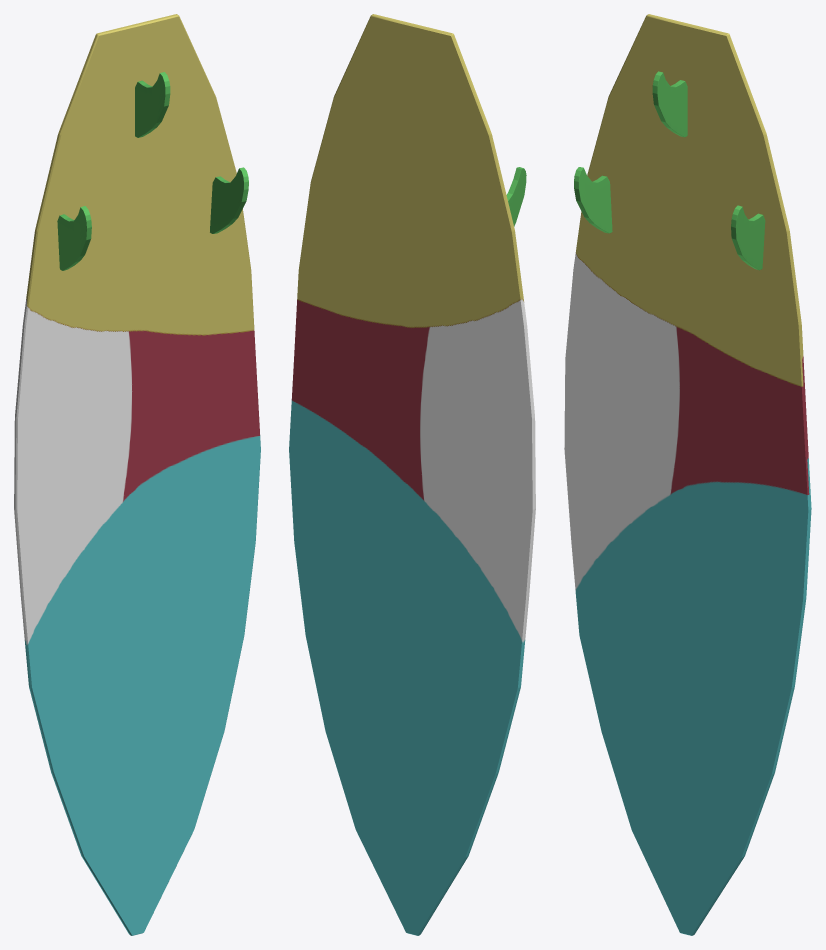
The model's file is surfboardTrippy.fbx.
3 renders of one model, left to right at view 1: azimuth 30°, elevation 25°; view 2: azimuth 150°, elevation 25°; view 3: azimuth 330°, elevation 25°, orthographic.
Visible parts, largest first — view 1: surfingBoard; view 2: surfingBoard; view 3: surfingBoard.
Boxes of the visible parts, bbox=[...] form: surfingBoard: bbox=[14, 14, 260, 935]; surfingBoard: bbox=[289, 14, 535, 935]; surfingBoard: bbox=[564, 14, 811, 935].
Bounding box in the file's own units: 1.36 × 4.8 × 0.3174.
